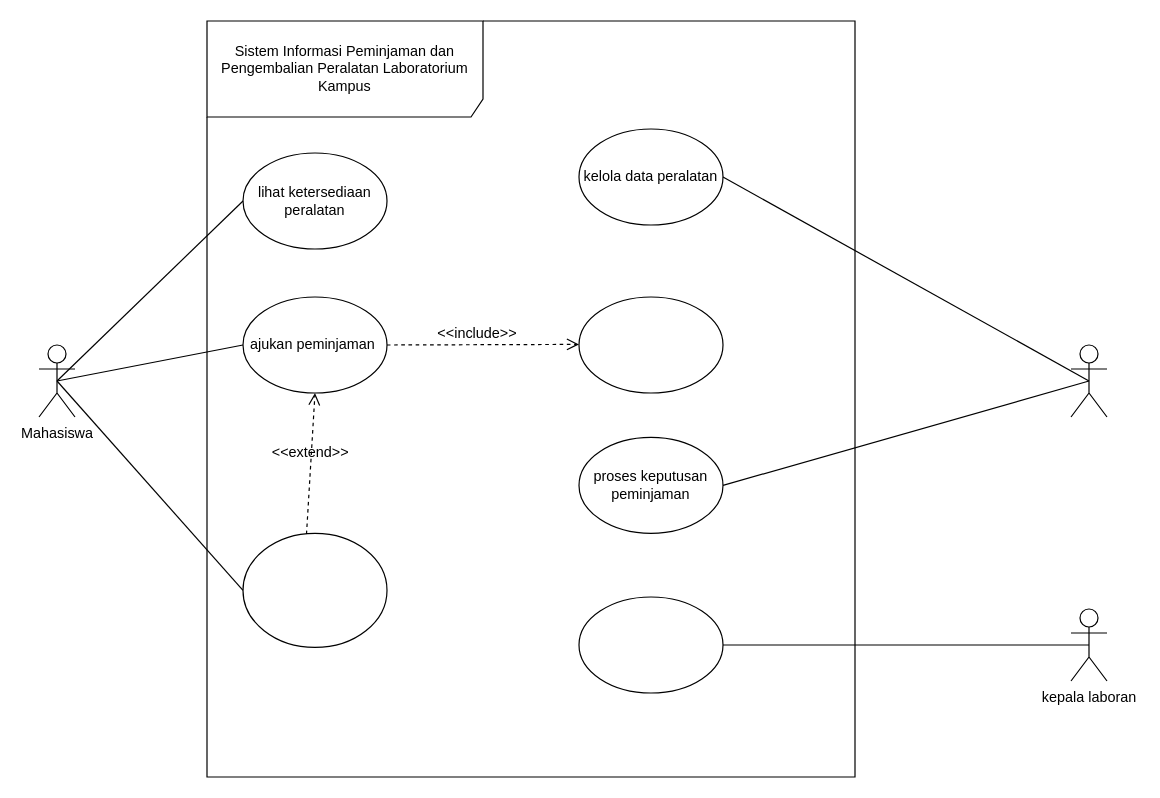
This 1160x798 diagram has some shape labels left out. Here are the shapes that lost their labels. From the top down, the centre of each, then its label:
At (x=650, y=344): "periksa ketersediaan".
At (x=1088, y=380): "petugas laboran".
At (x=314, y=589): "cetak bukti pengajuan".
At (x=650, y=644): "lihat laporan peminjaman".
